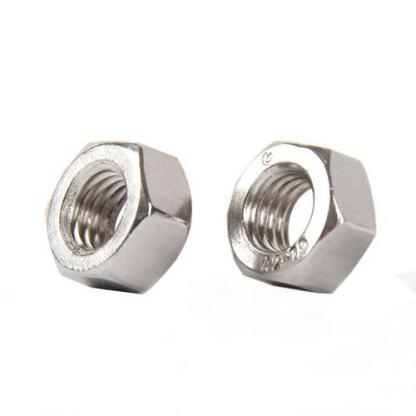FOD: (225, 140, 377, 294), (43, 140, 192, 292)
